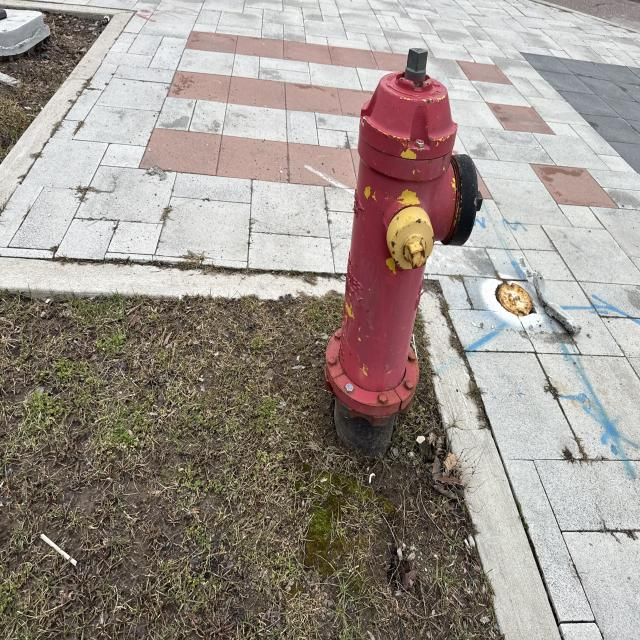Fire hydrant: (322, 47, 483, 428)
